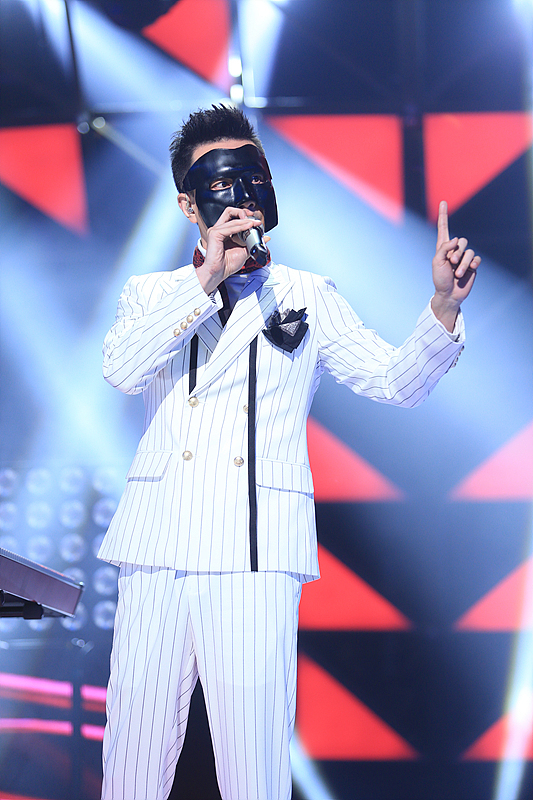face: (193, 135, 267, 261)
